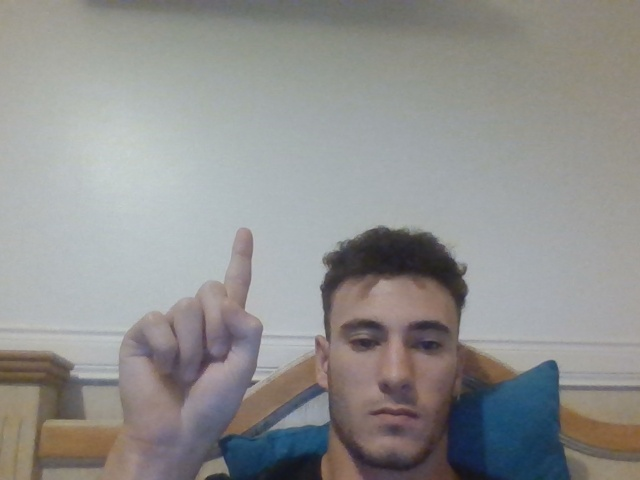Up: (119, 227, 264, 444)
